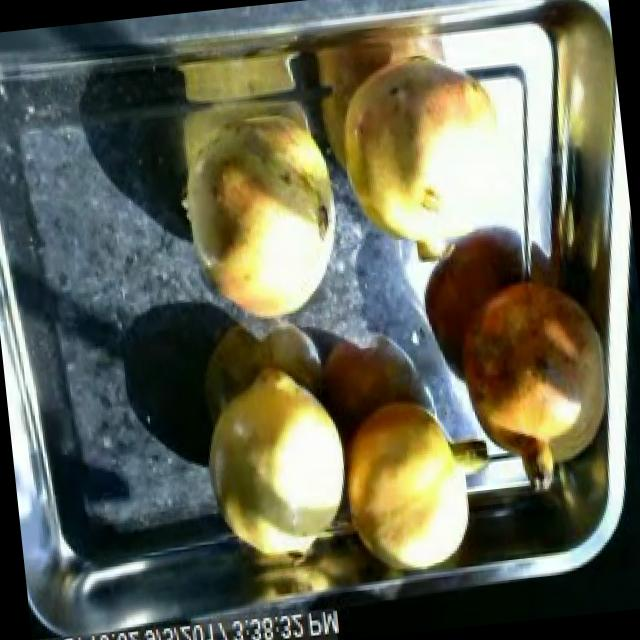fruit: (324, 29, 530, 277), (163, 95, 354, 341), (442, 258, 628, 490), (192, 352, 364, 578), (326, 378, 493, 586)
